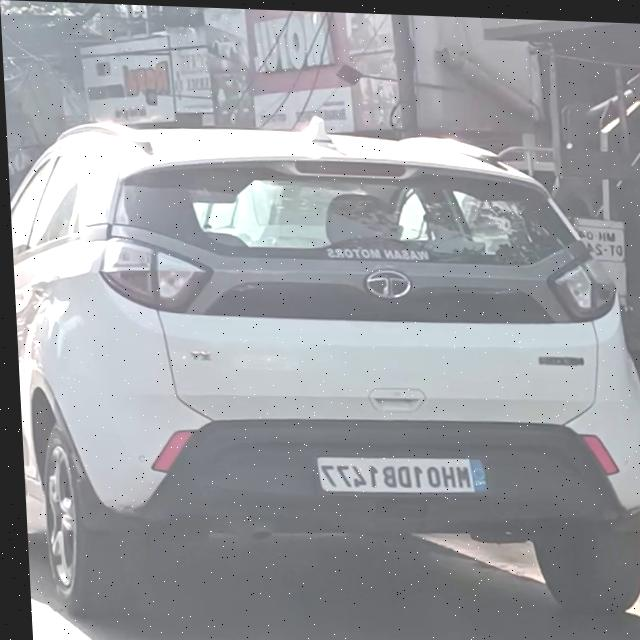plate: (312, 449, 483, 496)
